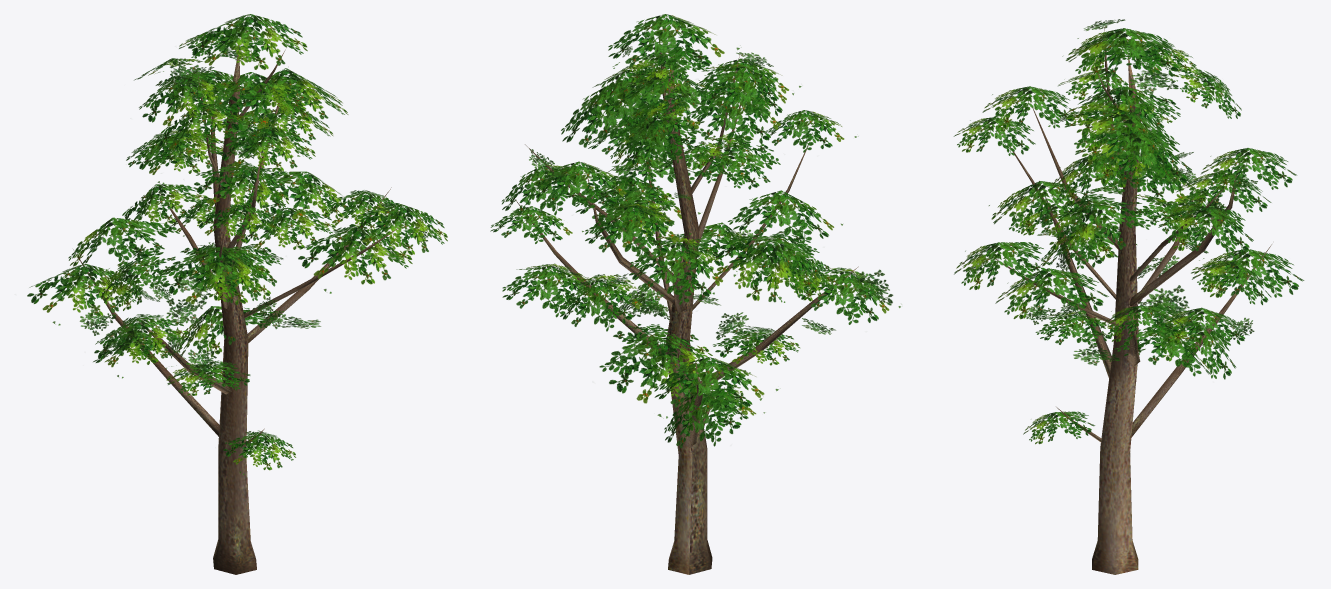
The model's file is shu5.gltf.
3 views of the same model, side by side, from view 1: azimuth 30°, elevation 25°; view 2: azimuth 150°, elevation 25°; view 3: azimuth 270°, elevation 25° (orthographic).
Parts seen in each view (by area): view 1: a24; view 2: a24; view 3: a24.
Boxes of the visible parts, left/top/right/bottom form: a24: left=27, top=14, right=447, bottom=574; a24: left=490, top=14, right=900, bottom=574; a24: left=953, top=19, right=1304, bottom=574.
Size of the model in its own units: 8.47 by 12.04 by 7.52.
1 material, 1 textured.
